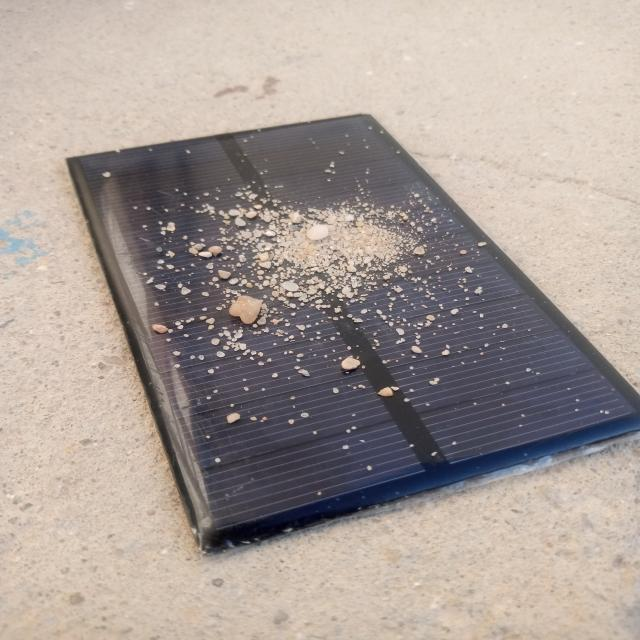faulty: (63, 114, 640, 547)
